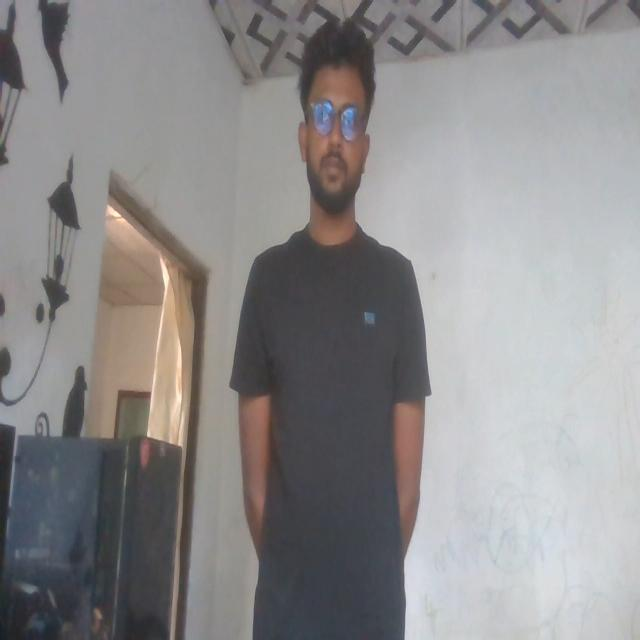Person: (221, 29, 453, 640)
